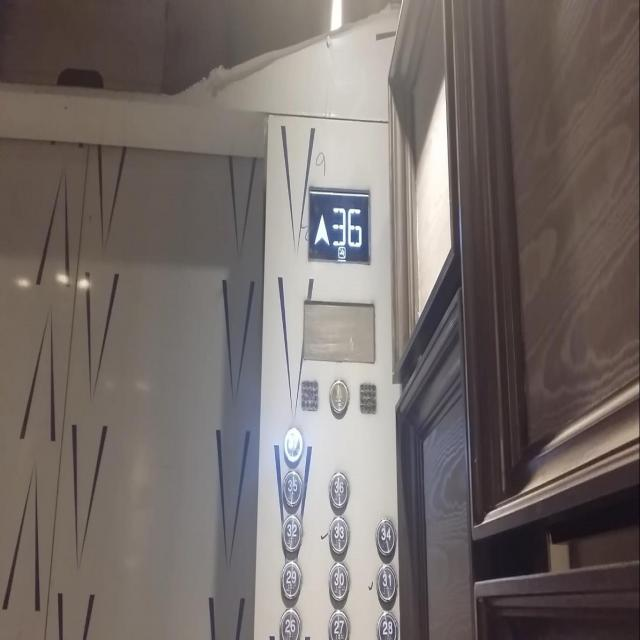26: (279, 605, 301, 639)
27: (327, 607, 348, 639)
28: (376, 609, 398, 639)
29: (280, 558, 302, 601)
30: (327, 560, 350, 602)
31: (375, 562, 398, 604)
32: (280, 514, 303, 554)
33: (328, 514, 349, 554)
34: (374, 516, 397, 558)
35: (281, 468, 303, 508)
36: (328, 469, 350, 509)
alarm: (327, 377, 350, 419)
blur: (282, 424, 304, 465)
led: (306, 183, 371, 265)
